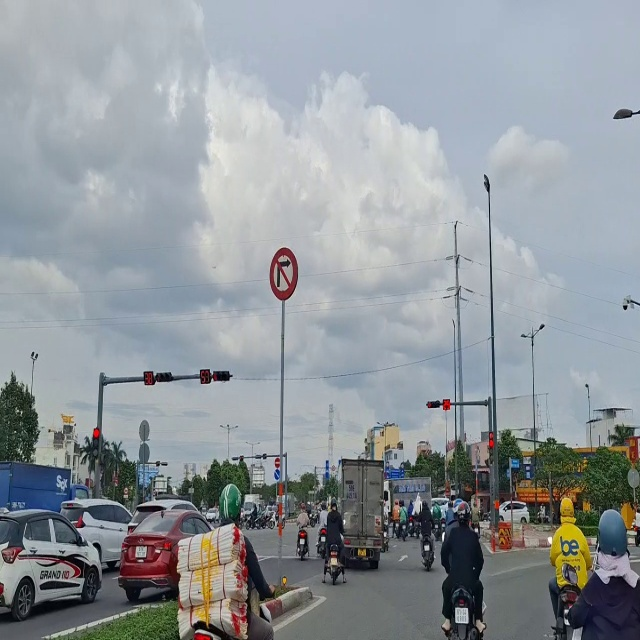cam queo phai: (260, 237, 301, 309)
